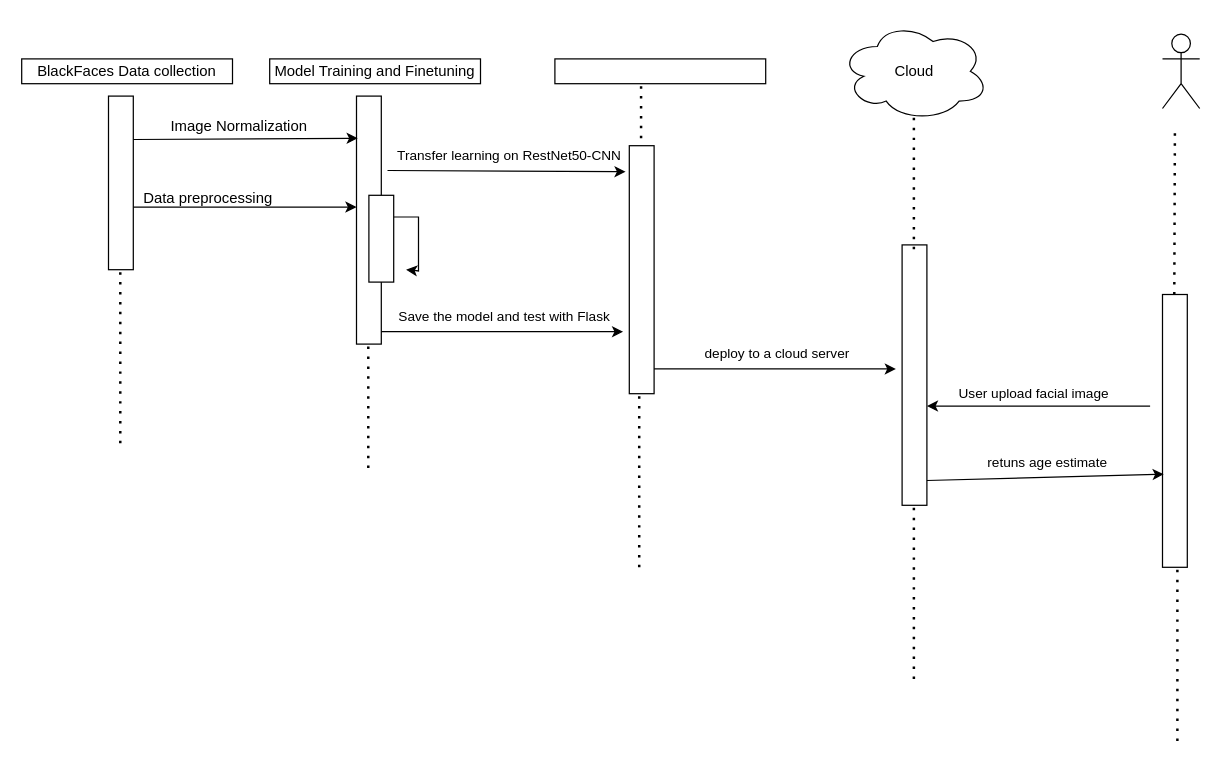
The diagram is 1221 pixels wide and 765 high, and some of its shapes have lost their labels. Each missing label, with the box of its shape:
User: (1161, 33, 1200, 108)
Web Application development: (554, 58, 766, 84)
